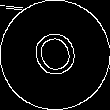O_S: (25, 23, 85, 87)
